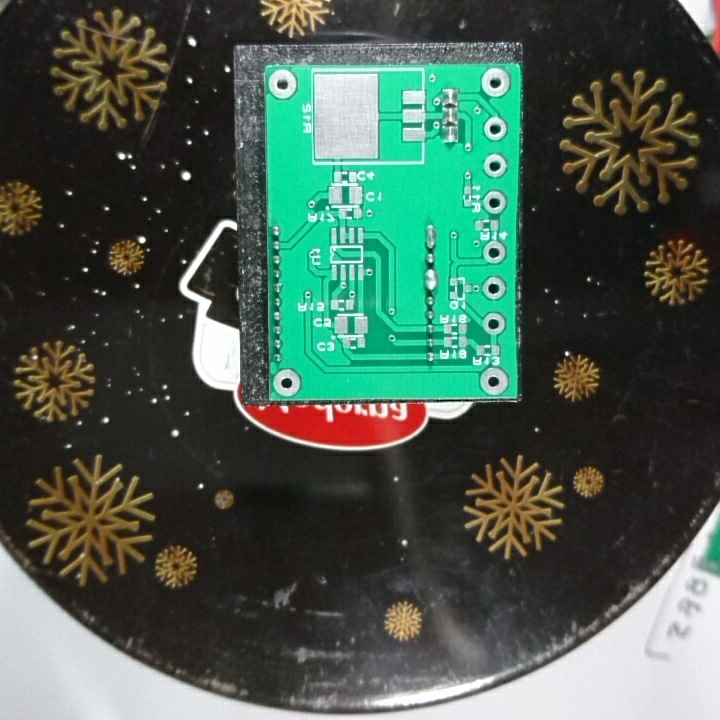F: (480, 66, 511, 100), (271, 367, 304, 398), (267, 67, 298, 100), (477, 366, 510, 396), (482, 152, 511, 180), (479, 275, 509, 302), (482, 238, 508, 268), (482, 187, 509, 215), (482, 115, 508, 143), (481, 310, 508, 336)
P: (421, 267, 439, 293), (423, 223, 440, 250)
